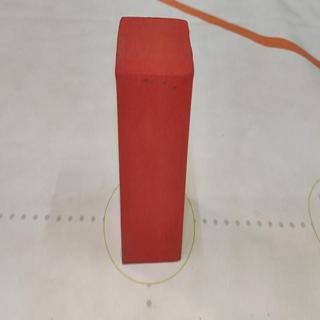redbox: (113, 15, 194, 263)
